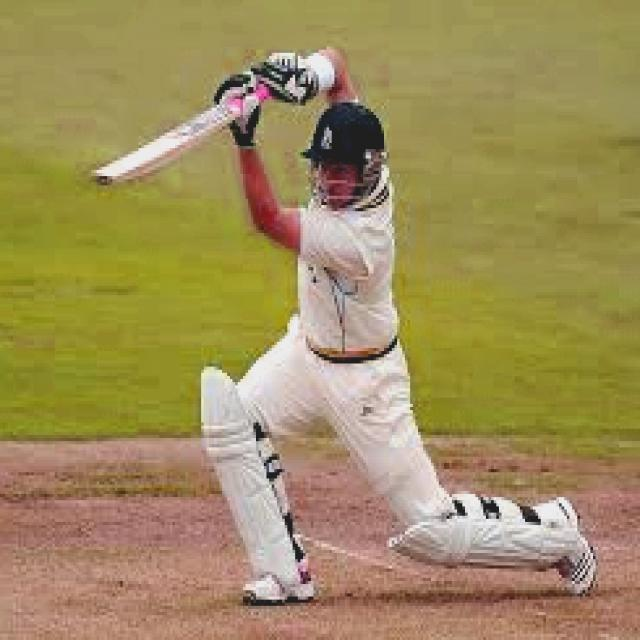bat: (89, 96, 251, 194)
toe: (91, 173, 118, 191)
